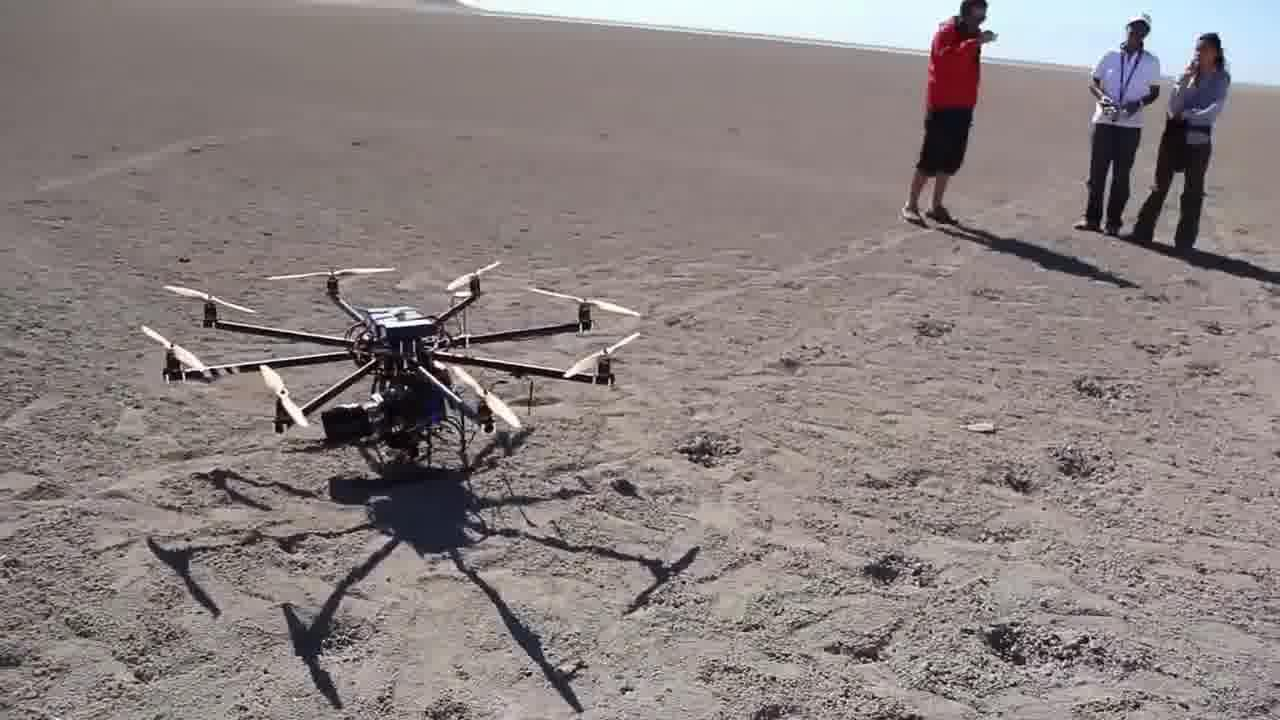drone: (115, 237, 649, 497)
